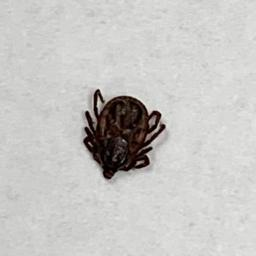Rhipicephalus sanguineus: (83, 88, 167, 180)
